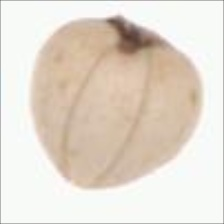L5: (26, 12, 206, 194), (58, 42, 154, 186), (106, 13, 168, 57)
